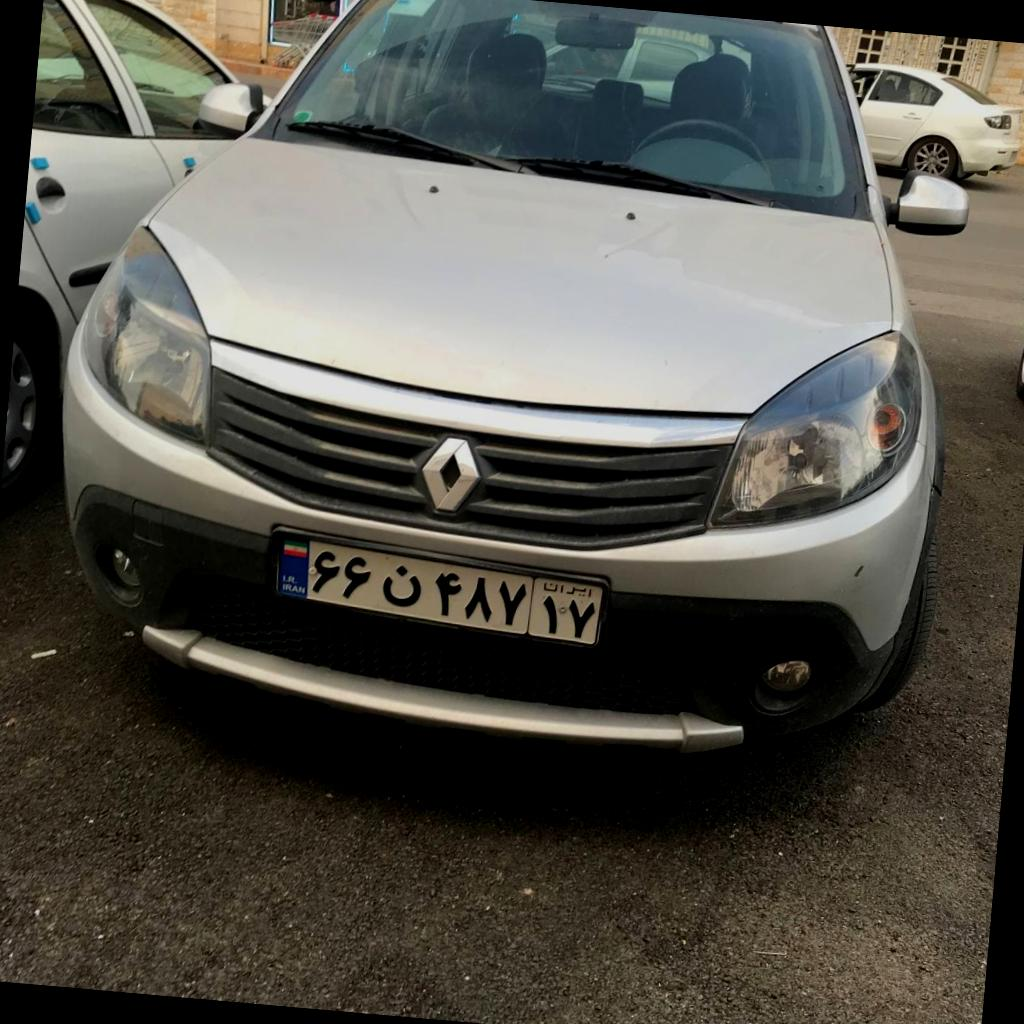Plates: (276, 533, 603, 644)
